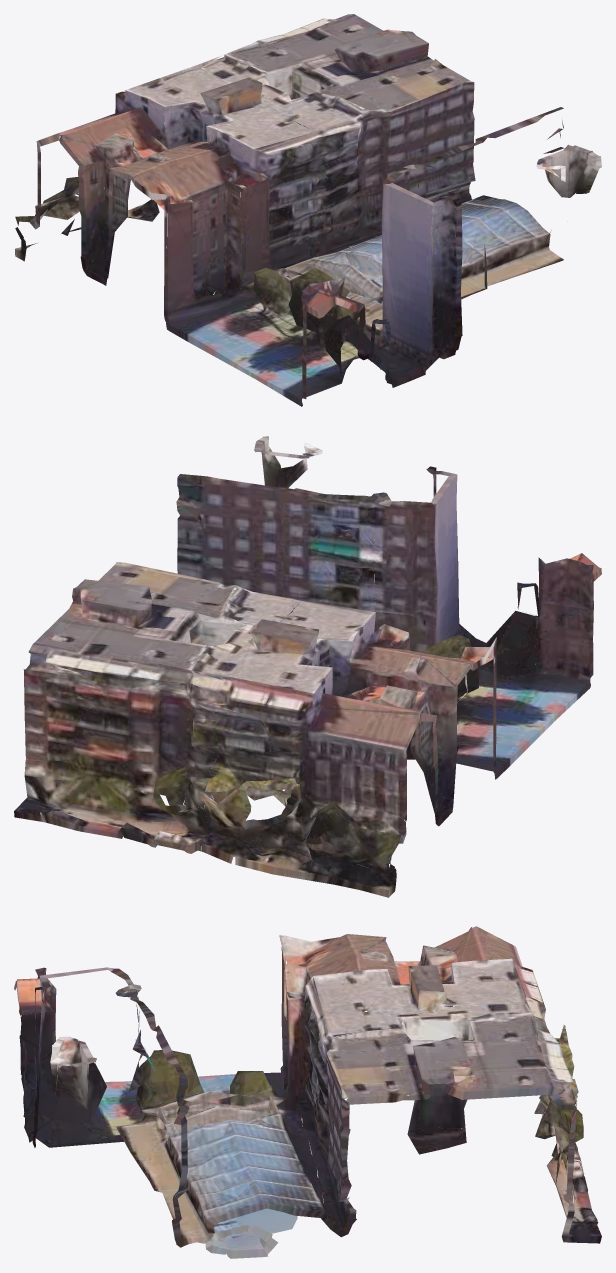
3 views of the same model, one above another, from view 1: azimuth 30°, elevation 25°; view 2: azimuth 150°, elevation 25°; view 3: azimuth 270°, elevation 25° (orthographic). The views are drawn at different scales.
Visible parts, largest first — view 1: Mesh_0; view 2: Mesh_0; view 3: Mesh_0.
Part boxes in pixels (x1,y1,x2,y2): Mesh_0: [15, 14, 601, 406]; Mesh_0: [14, 436, 601, 897]; Mesh_0: [14, 926, 601, 1258].
Bounding box in the file's own units: 65.05 × 30.73 × 82.55.
2 materials, 2 textured.
